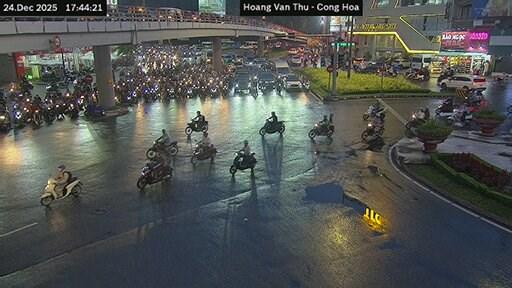motorbike: (39, 176, 80, 205), (137, 162, 170, 188), (445, 104, 473, 126), (230, 151, 256, 174), (146, 140, 178, 157), (191, 143, 216, 162), (307, 122, 332, 138), (361, 122, 383, 139), (362, 104, 386, 118), (435, 98, 454, 115), (12, 103, 25, 126), (406, 112, 425, 127), (83, 104, 105, 116), (265, 121, 284, 134), (185, 121, 207, 131), (41, 106, 54, 122), (32, 107, 41, 126), (0, 111, 9, 130), (67, 104, 76, 117), (259, 130, 273, 135)
